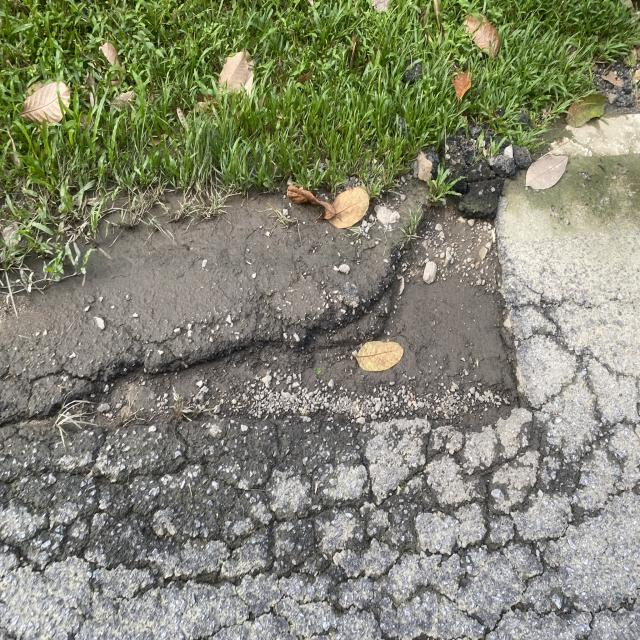pothole: (31, 299, 532, 510)
